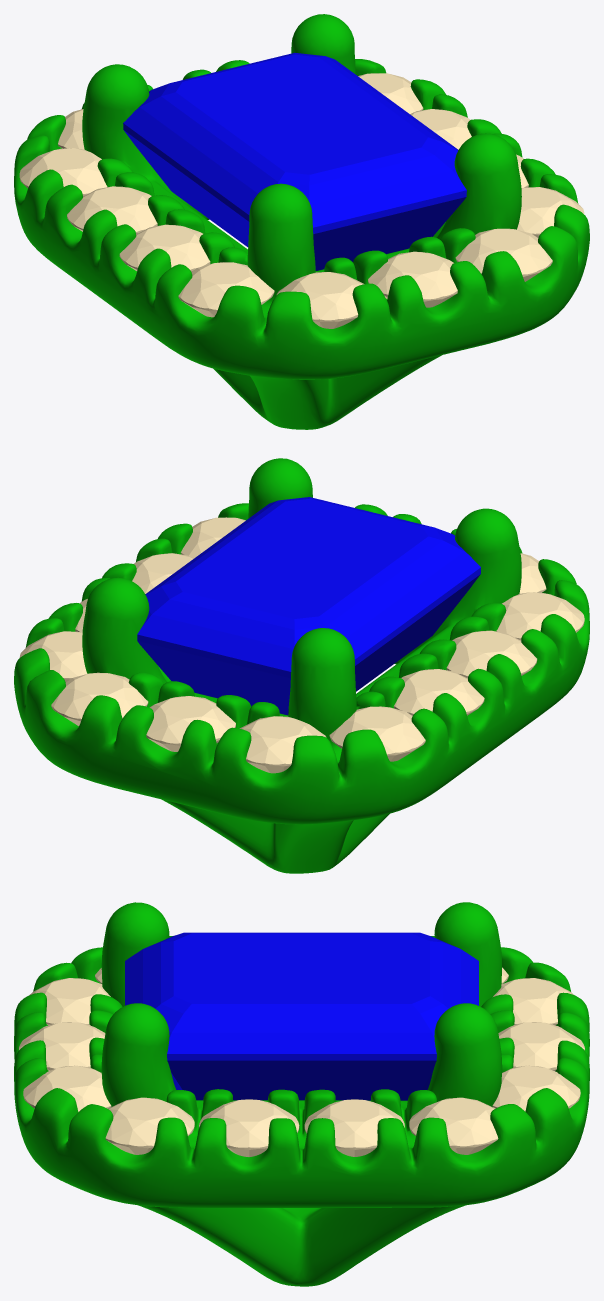
3 renders of one model, top to bottom at view 1: azimuth 30°, elevation 25°; view 2: azimuth 150°, elevation 25°; view 3: azimuth 270°, elevation 25°, orthographic.
Visible parts, largest first — view 1: Metal01, Diamond_Emerald, Diamond_Round.013, Diamond_Round.011, Diamond_Round.012, Diamond_Round.007, Diamond_Round.010, Diamond_Round.003, Diamond_Round.002, Diamond_Round.008, Diamond_Round.004, Diamond_Round.005 (+1 smaller); view 2: Metal01, Diamond_Emerald, Diamond_Round, Diamond_Round.001, Diamond_Round.002, Diamond_Round.006, Diamond_Round.003, Diamond_Round.010, Diamond_Round.011, Diamond_Round.005, Diamond_Round.009, Diamond_Round.008 (+1 smaller); view 3: Metal01, Diamond_Emerald, Diamond_Round.008, Diamond_Round.005, Diamond_Round.004, Diamond_Round.009, Diamond_Round, Diamond_Round.013, Diamond_Round.007, Diamond_Round.006, Diamond_Round.012, Diamond_Round.001.
Part boxes in pixels (x1,y1,x2,y2): Metal01: (14,14,589,429); Diamond_Emerald: (123,52,466,270); Diamond_Round.013: (368,251,457,307); Diamond_Round.011: (178,262,274,317); Diamond_Round.012: (276,272,364,328); Diamond_Round.007: (455,228,552,281); Diamond_Round.010: (119,224,210,271); Diamond_Round.003: (67,186,157,234); Diamond_Round.002: (19,148,107,196); Diamond_Round.008: (517,187,584,237); Diamond_Round.004: (410,109,471,149); Diamond_Round.005: (358,73,423,113); Metal01: (14,458,589,873); Diamond_Emerald: (137,497,480,715); Diamond_Round: (146,696,235,751); Diamond_Round.001: (239,716,326,773); Diamond_Round.002: (329,706,425,761); Diamond_Round.006: (51,672,148,725); Diamond_Round.003: (393,669,484,715); Diamond_Round.010: (446,630,537,678); Diamond_Round.011: (496,592,584,640); Diamond_Round.005: (19,631,87,681); Diamond_Round.009: (132,553,193,593); Diamond_Round.008: (180,517,245,558); Metal01: (14,902,589,1286); Diamond_Emerald: (125,932,478,1100); Diamond_Round.008: (105,1097,194,1154); Diamond_Round.005: (409,1097,498,1154); Diamond_Round.004: (304,1099,404,1156); Diamond_Round.009: (199,1099,299,1156); Diamond_Round: (498,1022,584,1070); Diamond_Round.013: (19,1022,105,1070); Diamond_Round.007: (23,1065,111,1111); Diamond_Round.006: (492,1065,580,1111); Diamond_Round.012: (29,978,110,1025); Diamond_Round.001: (493,978,573,1025).
Bounding box in the file's own units: 7.2 × 5.24 × 8.62.
